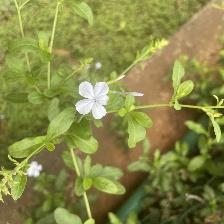chitrak: (74, 78, 115, 123)
